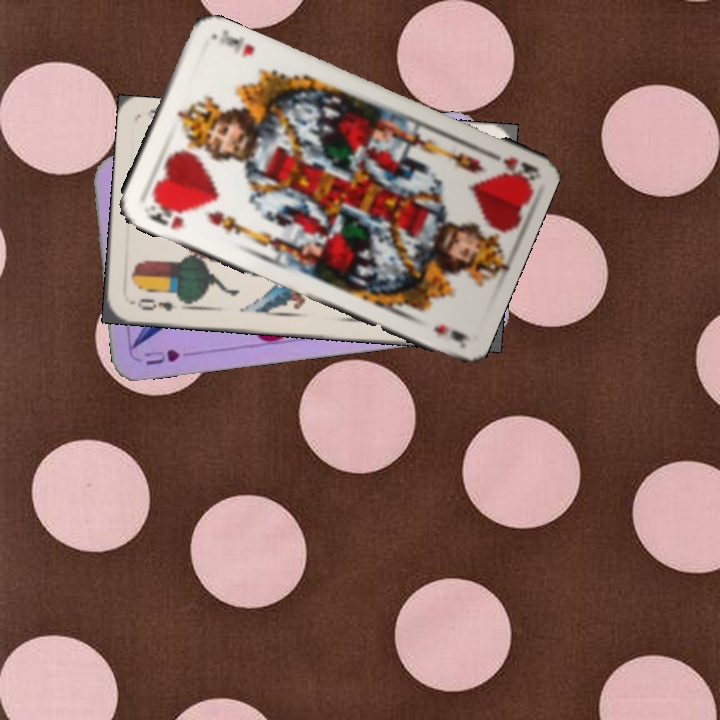EO: (128, 293, 187, 314)
HK: (478, 144, 537, 182), (140, 197, 187, 232)
HU: (141, 345, 182, 367)
